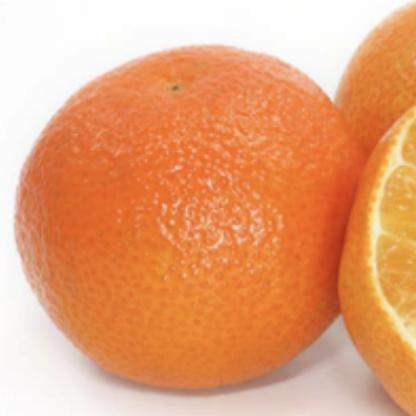fresh: (14, 44, 368, 394)
